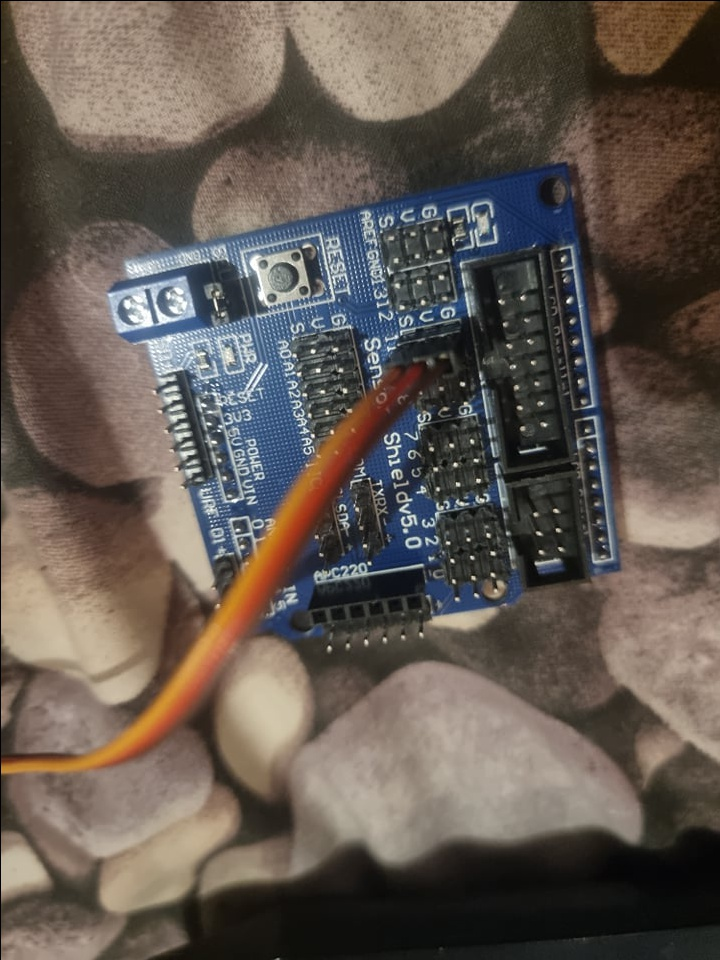5V EXPANSION: (103, 167, 624, 656)
